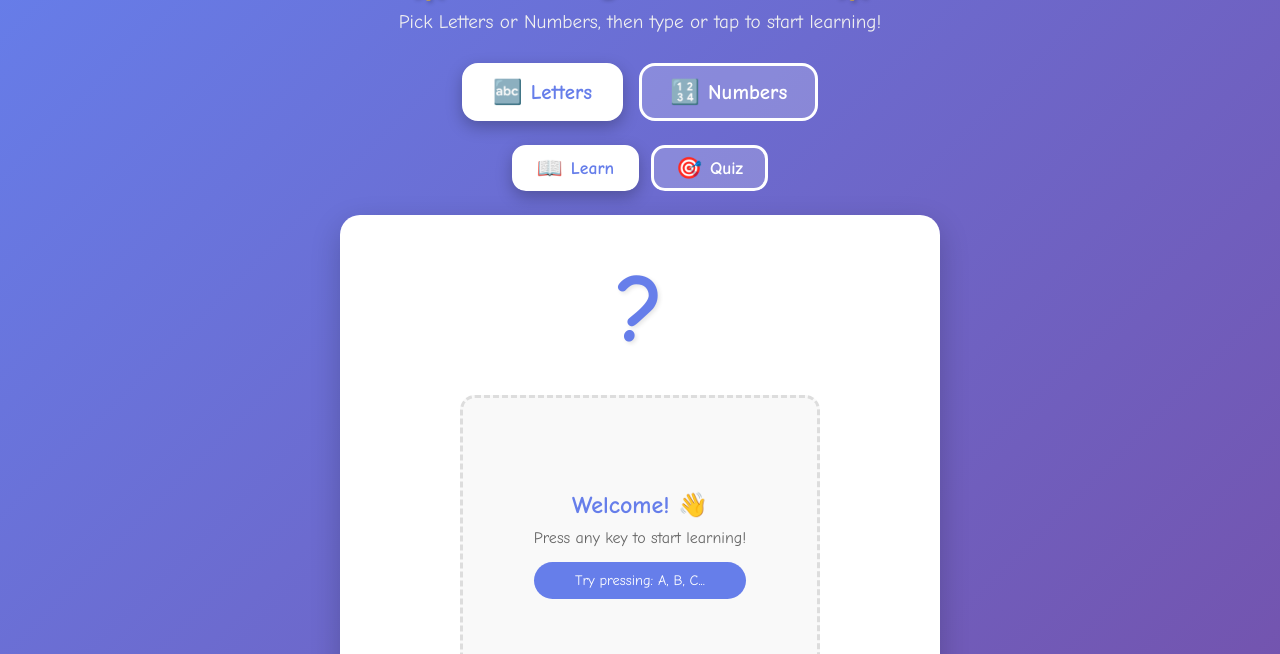
Numbers Learning Mode › Tabs › clicking the Numbers tab shows the 1-10 number grid
Click the tab "🔢 Numbers".
click(729, 92)  # box left=639, top=63, right=818, bottom=121
(page scrolled)
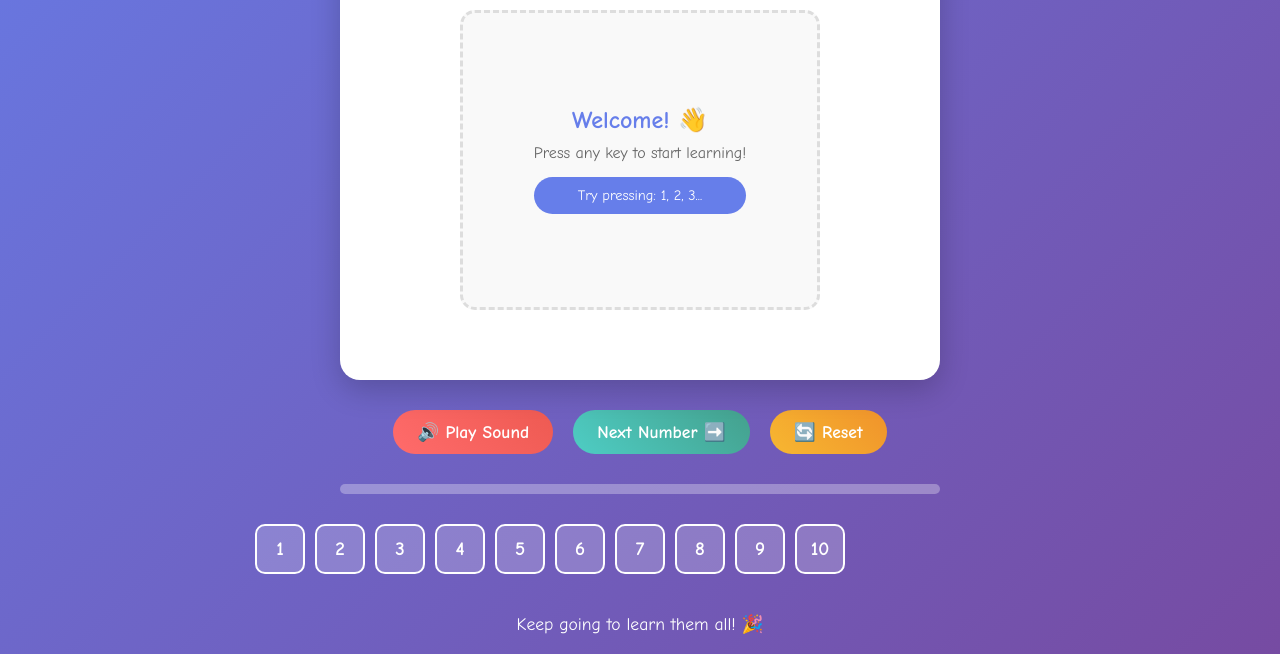
Result: the button named "Number 1" is shown at left=255, top=524, right=305, bottom=574
Result: the button named "Number 2" is shown at left=315, top=524, right=365, bottom=574
Result: the button named "Number 3" is shown at left=375, top=524, right=425, bottom=574
